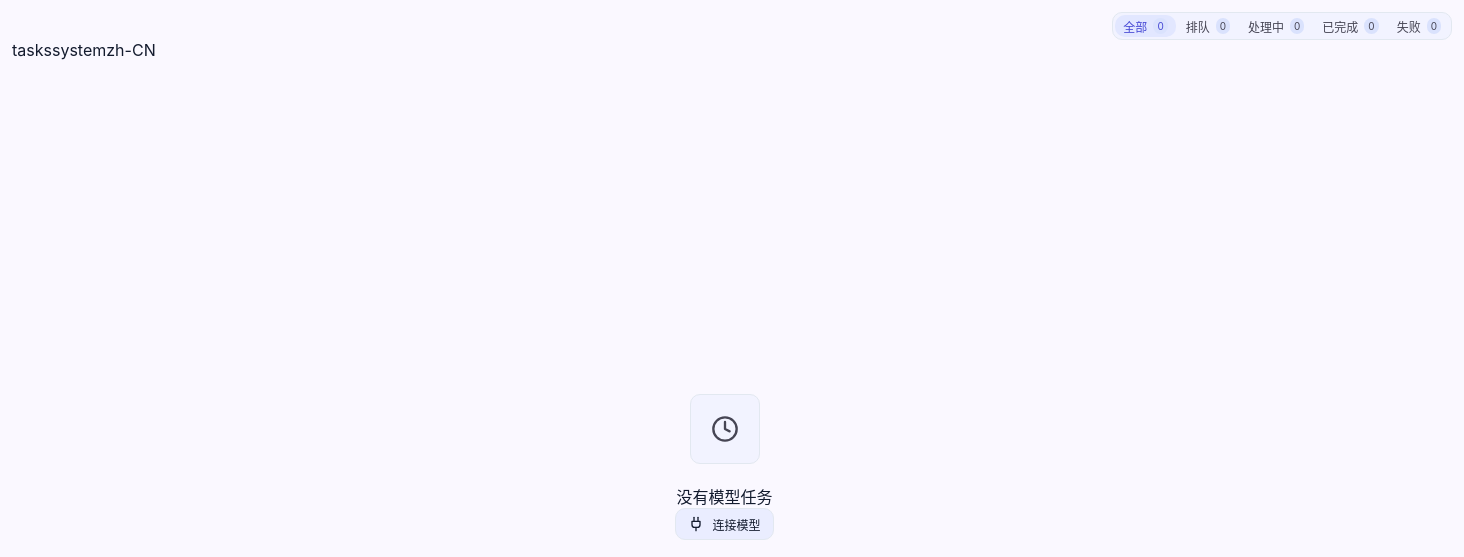
shows an empty state when a task category has no matches
Click the button named "排队0" at (1208, 26), box [1178,15,1238,37]
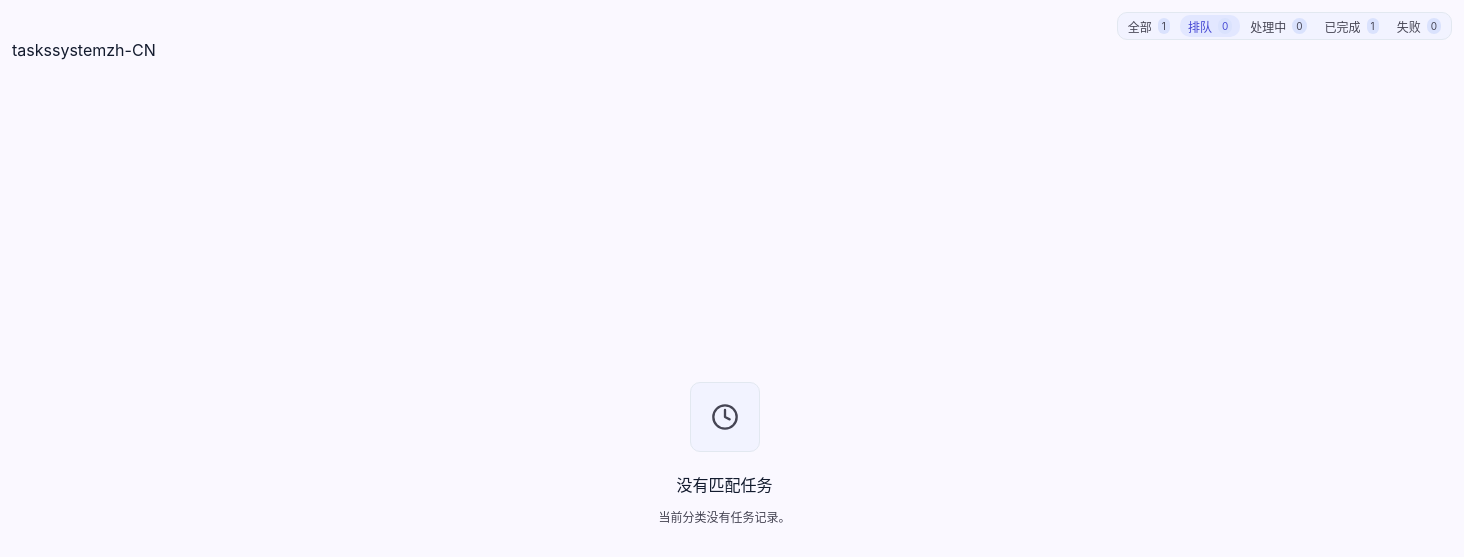
Expected: the heading "没有匹配任务" is shown, [676,472,772,496]
